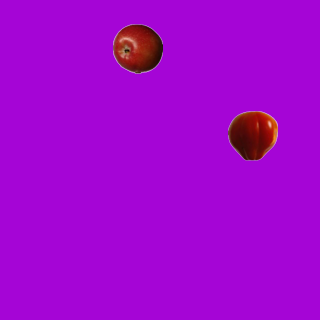Apple Braeburn: (112, 23, 162, 73)
Tomato 1: (227, 110, 277, 160)
